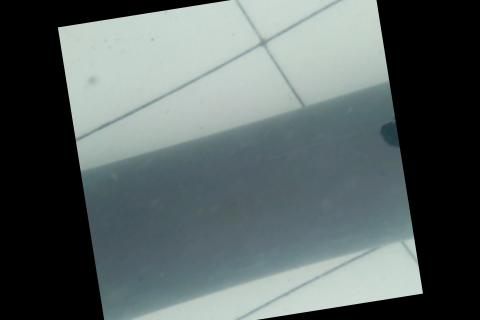kebocoran: (374, 109, 400, 154)
